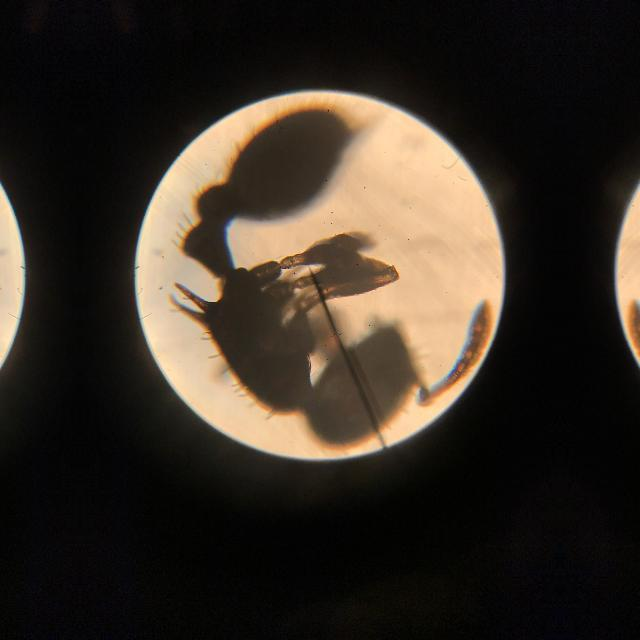Temnothorax: (153, 94, 480, 452)
